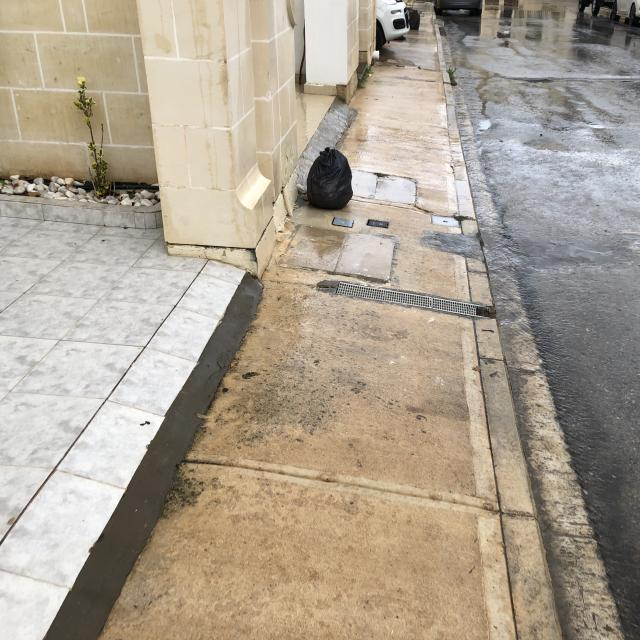Mixed Waste -Black Bag-: (308, 148, 354, 214)
